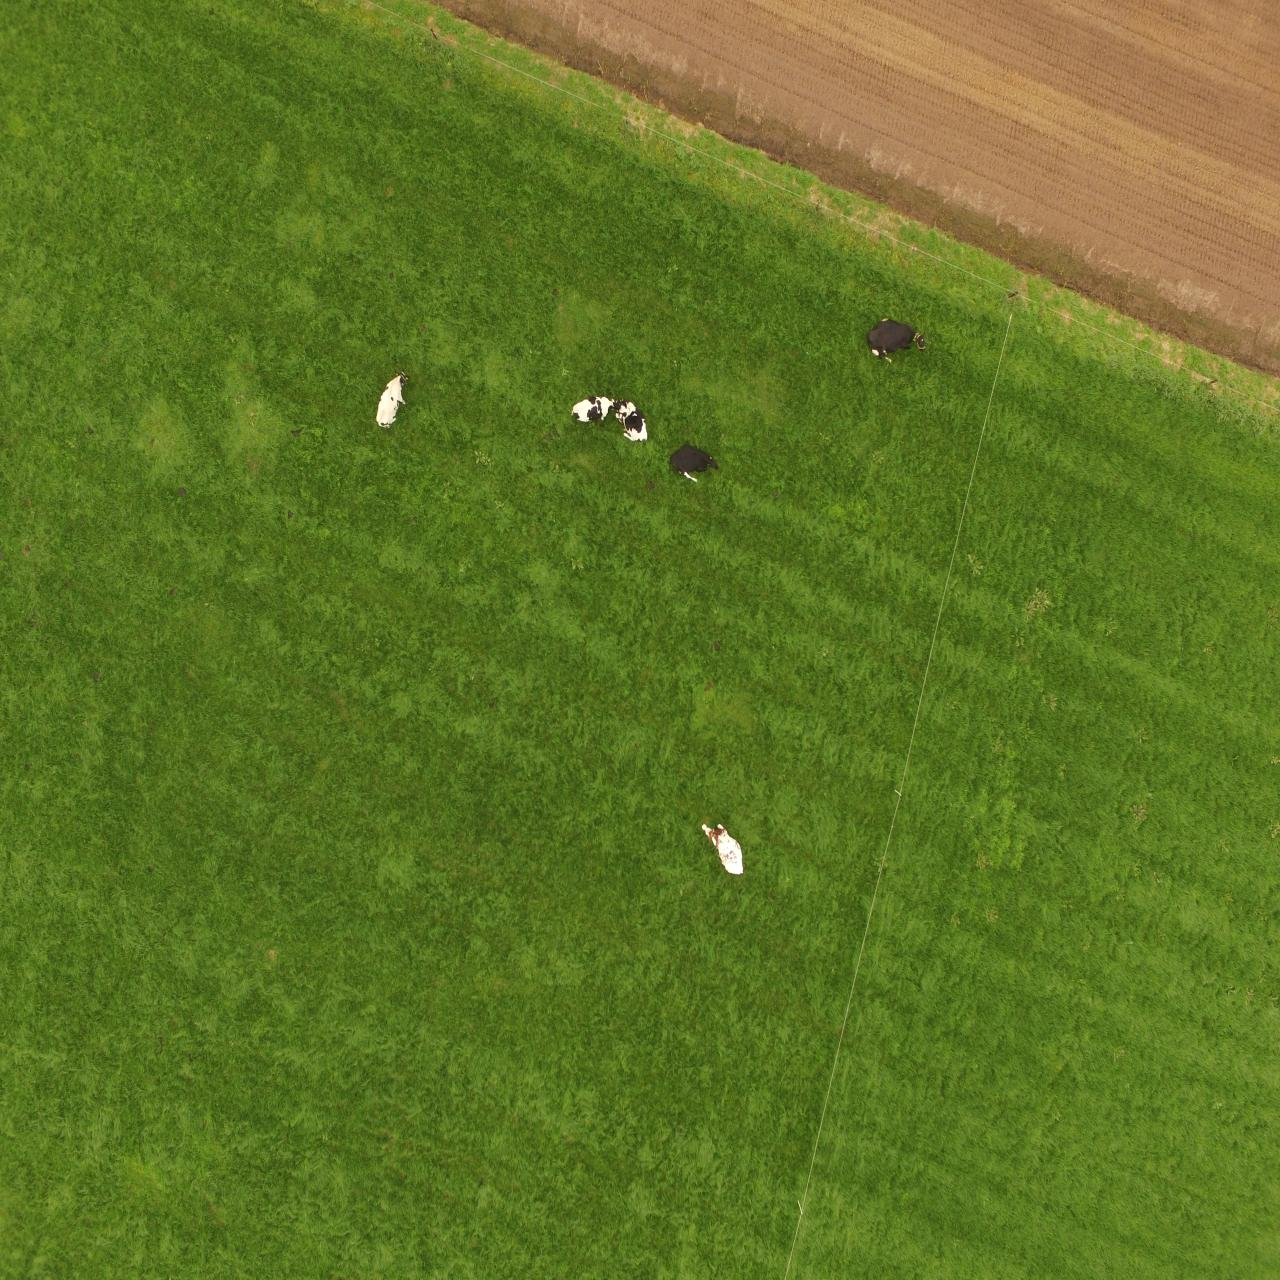cow: (699, 816, 754, 886), (865, 313, 930, 367), (669, 441, 721, 491), (376, 369, 410, 434), (570, 393, 625, 430), (617, 399, 653, 454)
